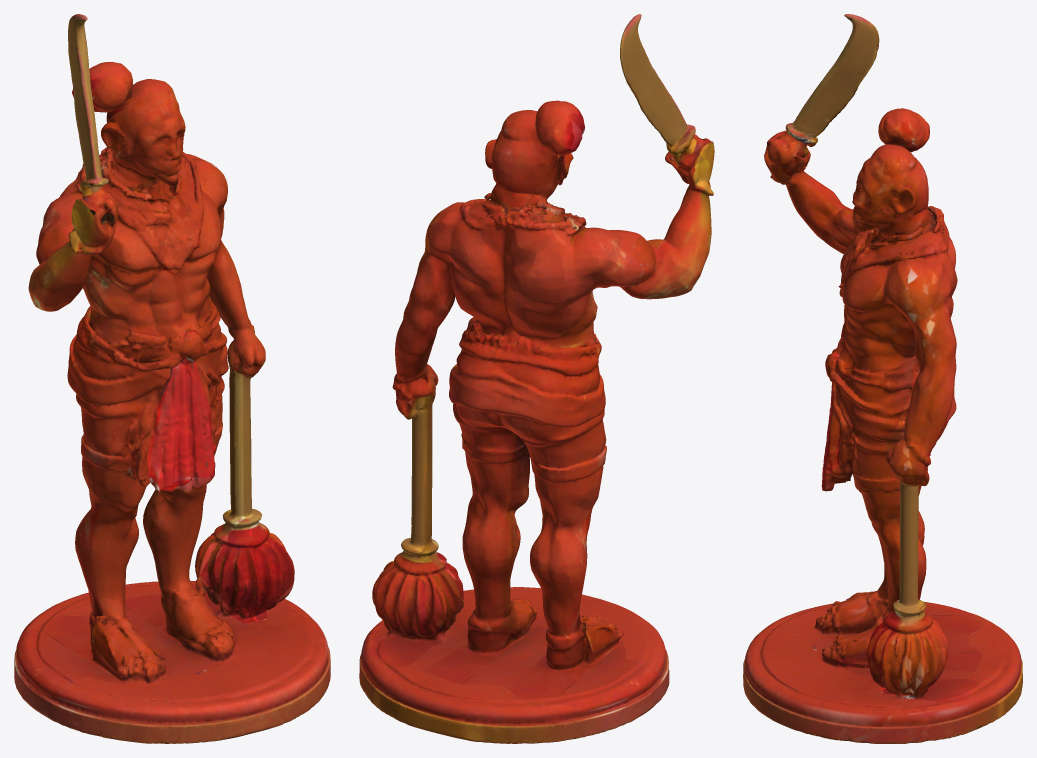
Rendered from Statue_Warrior_0830060351_texture.fbx.
3 views of the same model, side by side, from view 1: azimuth 30°, elevation 25°; view 2: azimuth 150°, elevation 25°; view 3: azimuth 270°, elevation 25° (orthographic). The views are drawn at different scales.
Visible parts, largest first — view 1: Mesh_0; view 2: Mesh_0; view 3: Mesh_0.
Boxes of the visible parts, x1,y1,x2,y2 form: Mesh_0: (14, 14, 330, 743); Mesh_0: (359, 14, 714, 743); Mesh_0: (743, 14, 1022, 743).
Size of the model in its own units: 90.97 by 200 by 81.48.
1 material, 1 textured.
